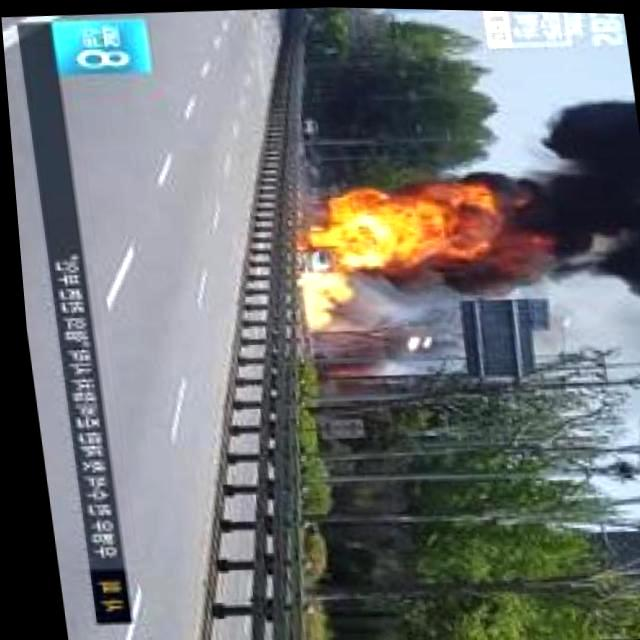fire: (294, 180, 486, 266), (288, 268, 339, 322)
